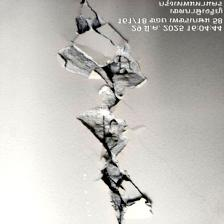Medium: (60, 40, 155, 219)
